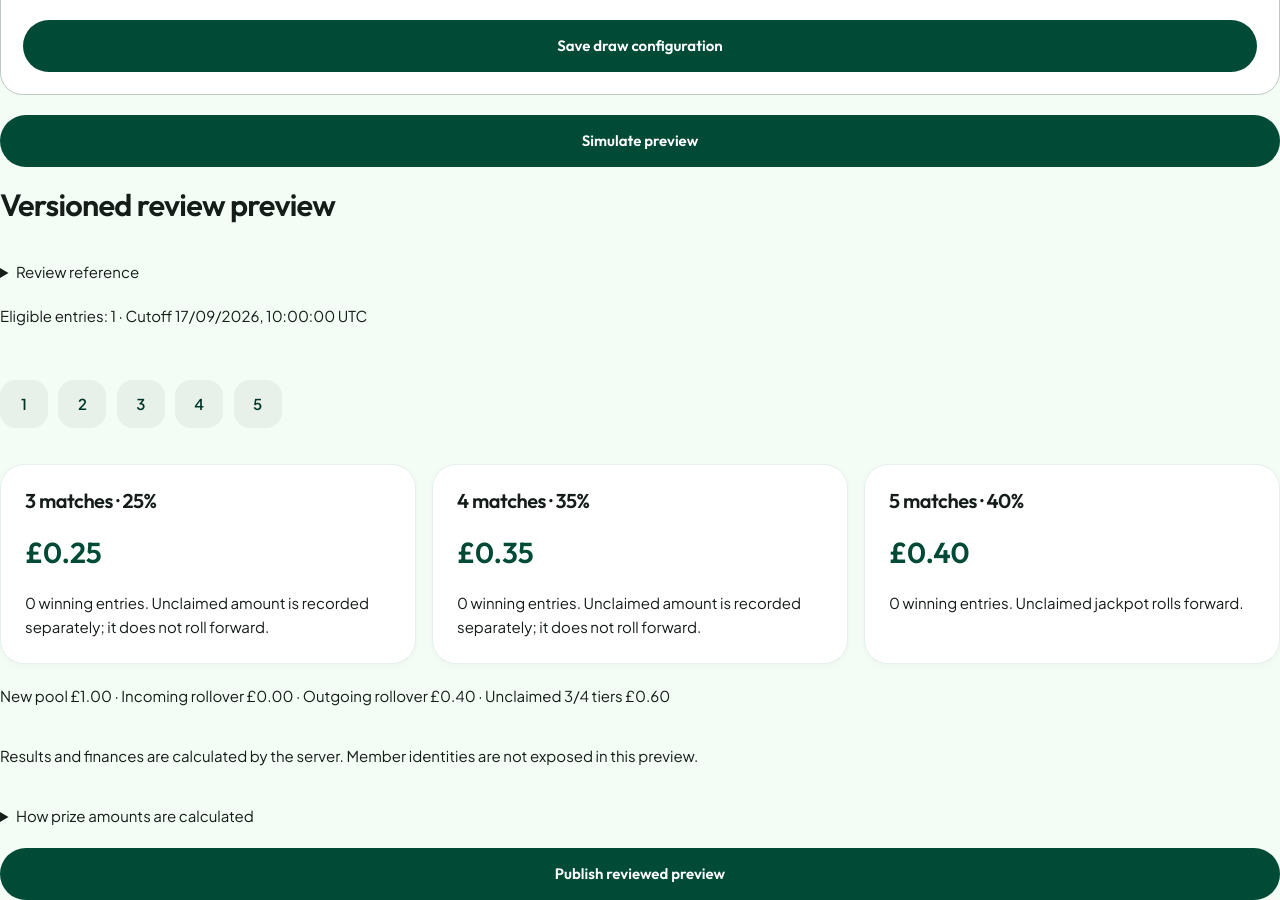
it: admin draw cancellation sends no publication; stale publish retains reviewed version and surfaces conflict
The image size is (1280, 900).
(page scrolled)
Expected: the heading "Versioned review preview" is shown, [0,185,335,224]
Click the button "Publish reviewed preview". click: (640, 874)
box: [0,848,1279,899]
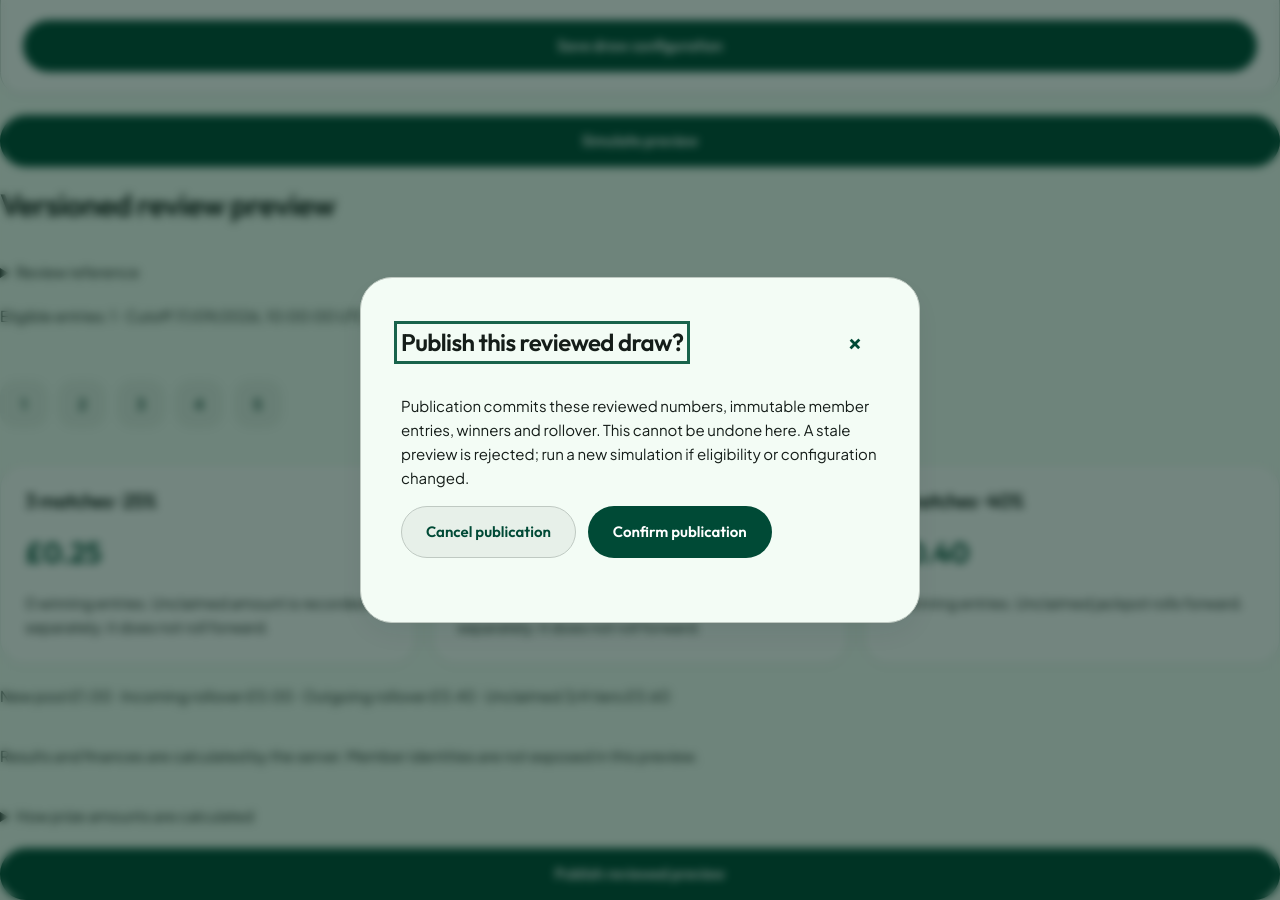
Click the button "Cancel publication". click: (488, 532)
box: [401,506,576,558]
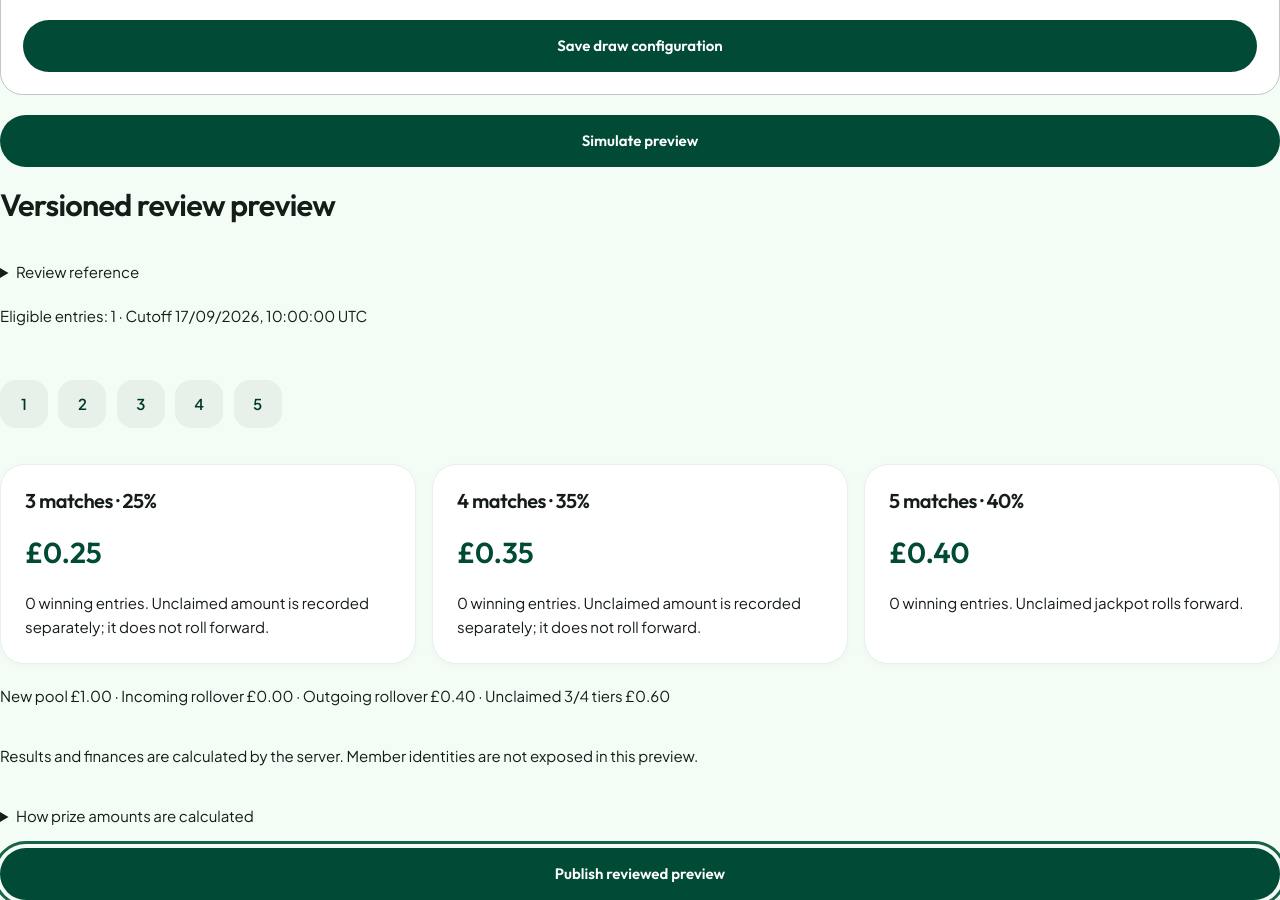
Click the button "Publish reviewed preview". click: (640, 874)
box: [0,848,1279,899]
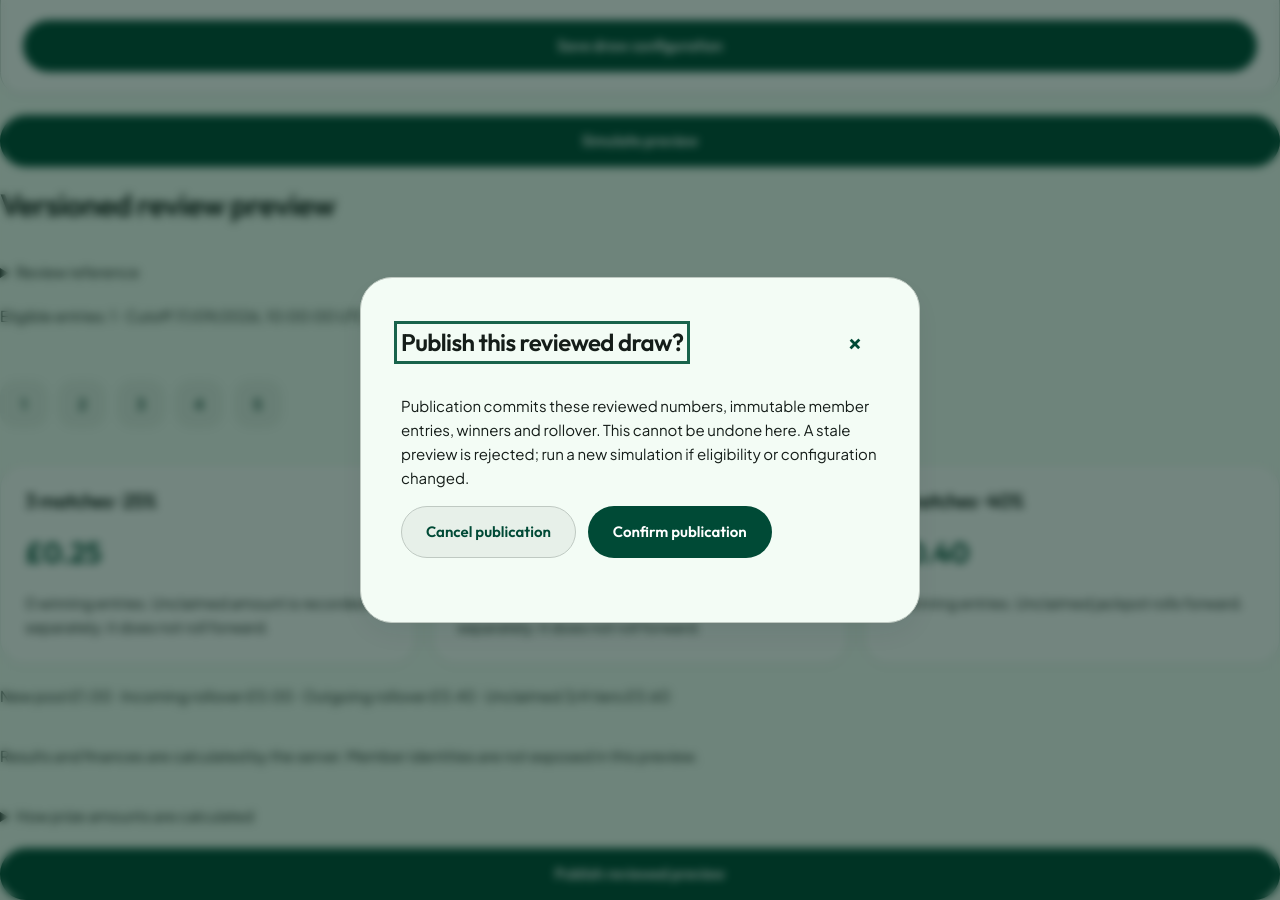
Click the button "Confirm publication". click: (680, 532)
box: [588,506,772,558]
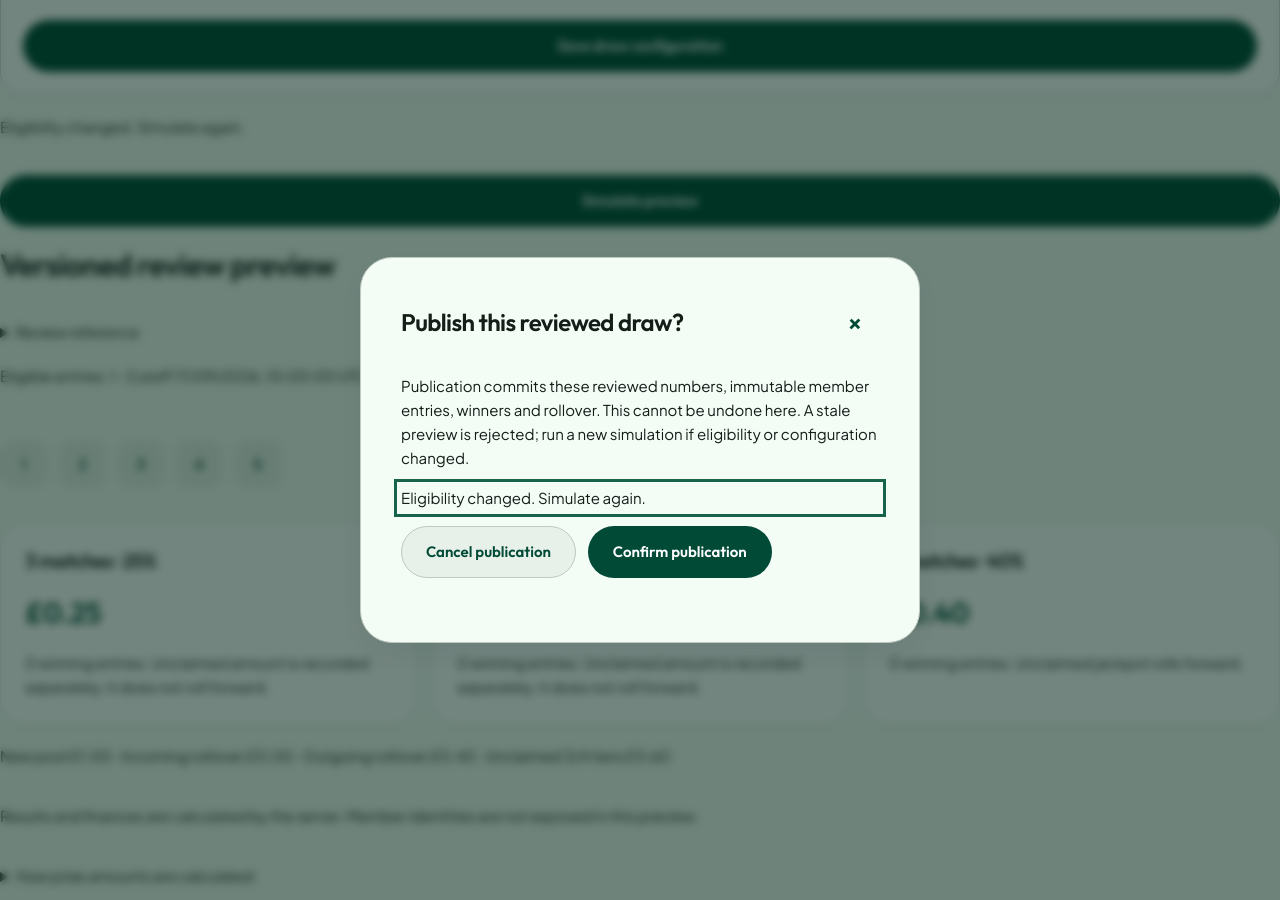
Now the number of messages is 2, box [0,117,245,136]; [401,488,646,507]
